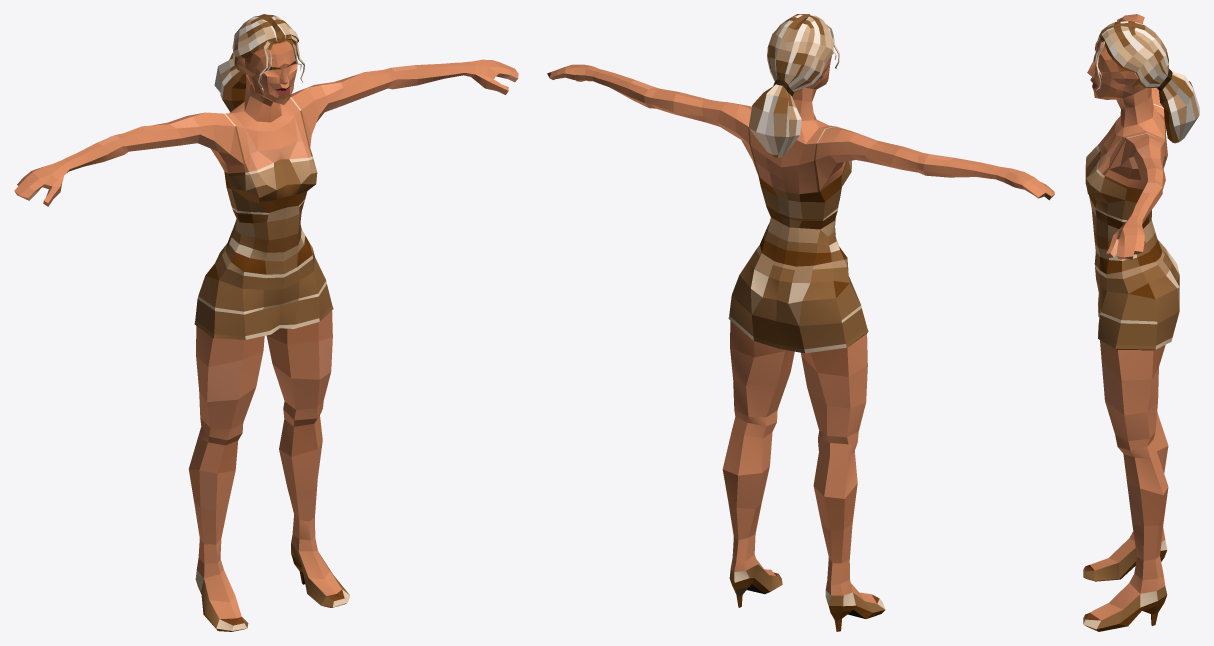
The model's file is night_Female_B-model.obj.
3 views of the same model, side by side, from view 1: azimuth 30°, elevation 25°; view 2: azimuth 150°, elevation 25°; view 3: azimuth 270°, elevation 25° (orthographic). The views are drawn at different scales.
Parts seen in each view (by area): view 1: night_Female_B, acc_hair_blond_fringes; view 2: night_Female_B, acc_hair_blond_fringes; view 3: night_Female_B, acc_hair_blond_fringes.
Boxes of the visible parts, bbox=[...] form: night_Female_B: bbox=[14, 40, 518, 631]; acc_hair_blond_fringes: bbox=[214, 14, 304, 111]; night_Female_B: bbox=[547, 56, 1054, 631]; acc_hair_blond_fringes: bbox=[748, 14, 839, 157]; night_Female_B: bbox=[1083, 14, 1179, 631]; acc_hair_blond_fringes: bbox=[1094, 21, 1199, 143].
Size of the model in its own units: 160 by 179 by 32.79.
